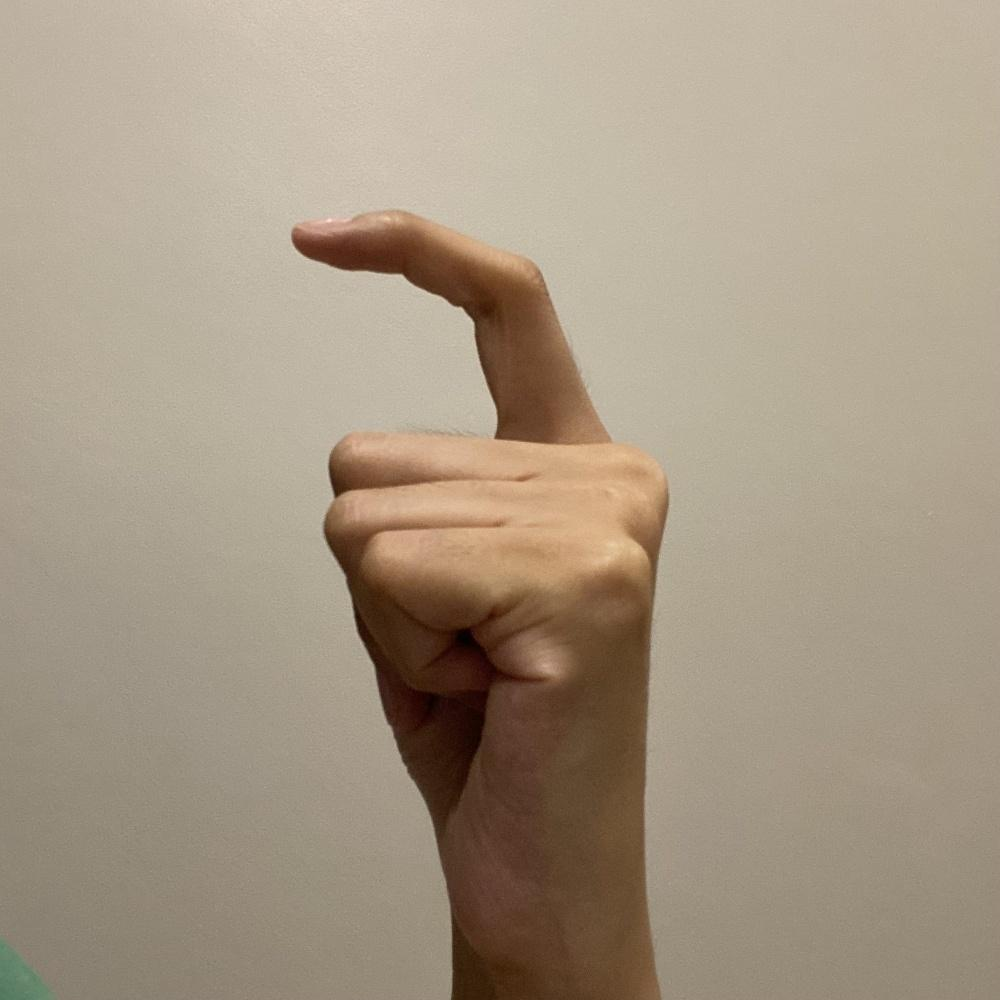x: (280, 201, 673, 963)
